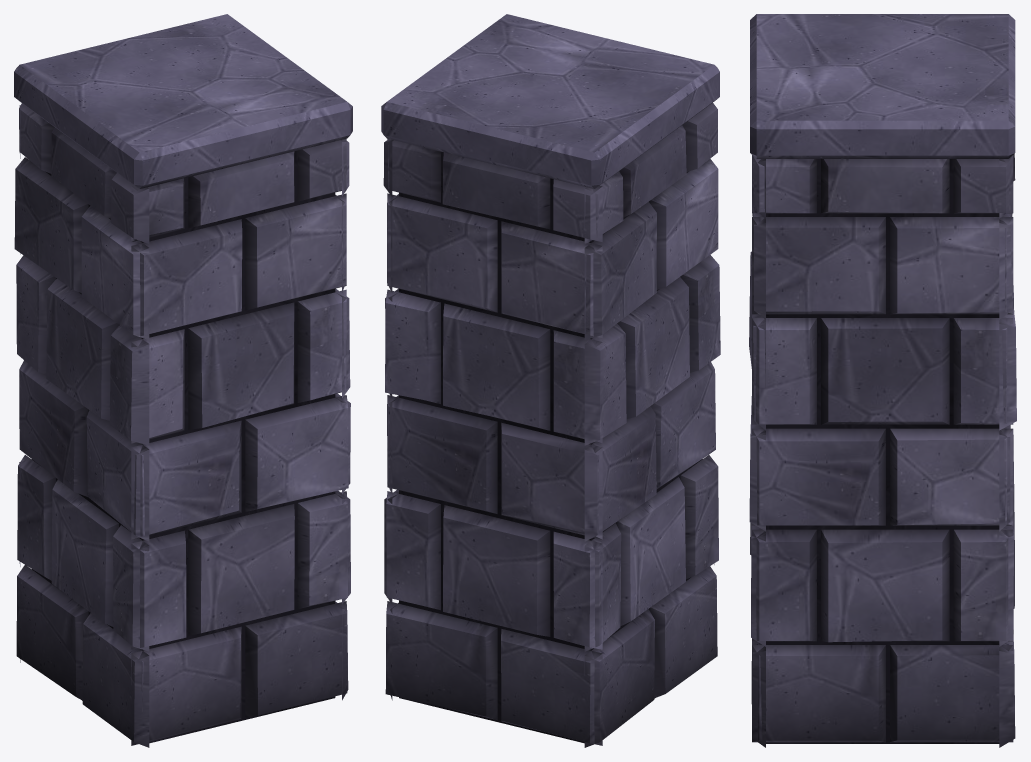
File: dng_wall.glb
The picture shows the model from 3 angles, left to right: view 1: azimuth 30°, elevation 25°; view 2: azimuth 150°, elevation 25°; view 3: azimuth 270°, elevation 25°; orthographic projection. The views are drawn at different scales.
Visible parts, largest first — view 1: dng_wall; view 2: dng_wall; view 3: dng_wall.
Part boxes in pixels (x1,y1,x2,y2): dng_wall: [14, 14, 352, 747]; dng_wall: [381, 14, 720, 747]; dng_wall: [749, 14, 1016, 747].
Size of the model in its own units: 1.02 by 2.61 by 1.01.
1 material, 1 textured.
